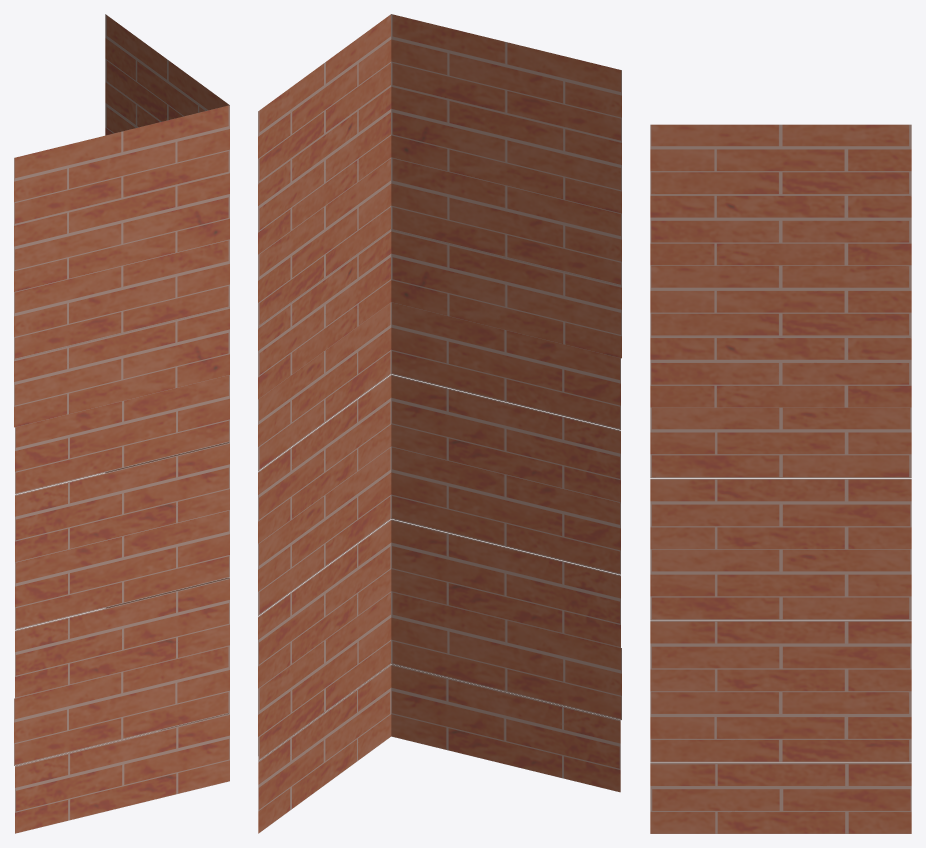
The model's file is MT_OS_OpenCorner.fbx.
The picture shows the model from 3 angles, left to right: view 1: azimuth 30°, elevation 25°; view 2: azimuth 150°, elevation 25°; view 3: azimuth 270°, elevation 25°; orthographic projection. The views are drawn at different scales.
Visible parts, largest first — view 1: OpenCorner.002; view 2: OpenCorner.002; view 3: OpenCorner.002.
Part boxes in pixels (x1,y1,x2,y2): OpenCorner.002: (14, 14, 229, 833); OpenCorner.002: (258, 14, 621, 833); OpenCorner.002: (650, 124, 911, 833).
Bounding box in the file's own units: 100 × 299 × 100.
